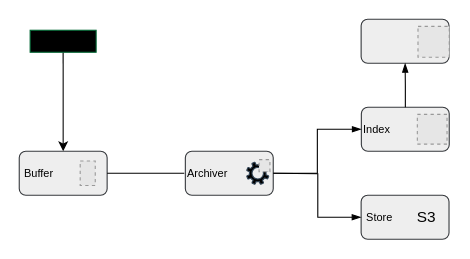
The diagram is 470 pixels wide and 259 high, and some of its shapes have lost their labels. Grey dashed boxes stand in for pictures. The shapes that lost their labels are listed below. From the top down, each one's box as (x1, y1, x2, y2) in pixels, then its label:
(29, 29, 96, 52): data
(360, 18, 449, 63): Search
